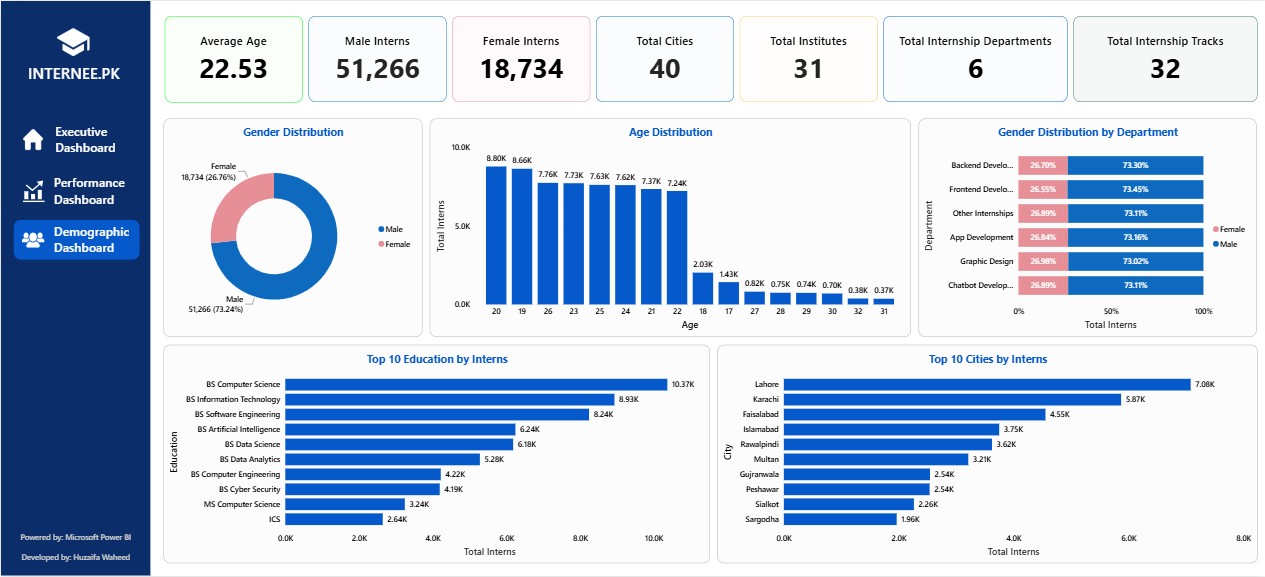

What the dashboard file says about the page in this screenshot:
{"tool":"powerbi","page":{"name":"Demographic Dashboard","canvas":[2200,1000],"ordinal":2},"visuals":[{"type":"shape","box":[0,0,259.8,999.3],"z":0},{"type":"image","box":[32.4,309.7,45.7,40],"z":0,"group":"g1"},{"type":"image","box":[32.1,396.1,45.7,40],"z":0,"group":"g6"},{"type":"image","box":[95.7,41.4,60,60],"z":1000},{"type":"textbox","box":[86.4,295.4,150,70],"z":1000,"group":"g1"},{"type":"textbox","box":[86.4,380.4,150,70],"z":1000,"group":"g6"},{"type":"textbox","box":[36,102,180,50.4],"z":2000},{"type":"group","id":"g1","title":"Group 2","box":[32.4,295.4,204,70],"z":3000,"group":"g4"},{"type":"group","id":"g2","title":"Group 4","box":[21.6,380.4,219.6,69.6],"z":3000},{"type":"group","id":"g3","title":"Group 5","box":[21.6,206.4,220.8,70.8],"z":4000},{"type":"group","id":"g4","title":"Group 6","box":[21.6,295.2,220.8,70.2],"z":5000},{"type":"actionButton","box":[21.6,295.2,220.8,69.6],"z":5000,"group":"g4"},{"type":"group","id":"g5","title":"Group 1","box":[33,206.4,207.1,70],"z":7000,"group":"g3"},{"type":"image","box":[33,222.1,45.7,40],"z":7000,"group":"g5"},{"type":"textbox","box":[90.1,206.4,150,70],"z":8000,"group":"g5"},{"type":"actionButton","box":[21.6,207.6,220.8,69.6],"z":8500,"group":"g3"},{"type":"shape","box":[21.6,380.4,219.6,69.6],"z":8500,"group":"g2"},{"type":"group","id":"g6","title":"Group 3","box":[32.1,380.4,204.3,70],"z":9000,"group":"g2"},{"type":"cardVisual","fields":{"Data":["Avg(internship_program_2025.Age)"]},"box":[284.1,26.4,240,150],"z":13001},{"type":"cardVisual","fields":{"Data":["internship_program_2025.Total Cities"]},"box":[1034.7,26.4,240,149.7],"z":13002},{"type":"cardVisual","fields":{"Data":["internship_program_2025.Male Interns"]},"box":[534.3,26.4,240,149.7],"z":13003},{"type":"cardVisual","fields":{"Data":["internship_program_2025.Female Interns"]},"box":[784.5,26.4,240,149.7],"z":13004},{"type":"cardVisual","title":"hi","fields":{"Data":["internship_program_2025.Total Departments"]},"box":[1535.1,26.4,320,149.7],"z":13005},{"type":"cardVisual","fields":{"Data":["internship_program_2025.Total Institutes"]},"box":[1284.9,26.4,240,149.7],"z":13007},{"type":"cardVisual","fields":{"Data":["internship_program_2025.Total Internship Tracks"]},"box":[1865.3,26.4,320,149.7],"z":13008}]}

Visuals, with their boxes in screenshot pixels (x1, y1, x2, y2), scaled from the page's 2200x1000 canvas onto the 1265x577 screenshot:
shape: {"left": 0, "top": 0, "right": 149, "bottom": 576}
image: {"left": 19, "top": 179, "right": 45, "bottom": 202}
image: {"left": 18, "top": 229, "right": 45, "bottom": 252}
image: {"left": 55, "top": 24, "right": 90, "bottom": 59}
textbox: {"left": 50, "top": 170, "right": 136, "bottom": 211}
textbox: {"left": 50, "top": 219, "right": 136, "bottom": 260}
textbox: {"left": 21, "top": 59, "right": 124, "bottom": 88}
"Group 2" group: {"left": 19, "top": 170, "right": 136, "bottom": 211}
"Group 4" group: {"left": 12, "top": 219, "right": 139, "bottom": 260}
"Group 5" group: {"left": 12, "top": 119, "right": 139, "bottom": 160}
"Group 6" group: {"left": 12, "top": 170, "right": 139, "bottom": 211}
actionButton: {"left": 12, "top": 170, "right": 139, "bottom": 210}
"Group 1" group: {"left": 19, "top": 119, "right": 138, "bottom": 159}
image: {"left": 19, "top": 128, "right": 45, "bottom": 151}
textbox: {"left": 52, "top": 119, "right": 138, "bottom": 159}
actionButton: {"left": 12, "top": 120, "right": 139, "bottom": 160}
shape: {"left": 12, "top": 219, "right": 139, "bottom": 260}
"Group 3" group: {"left": 18, "top": 219, "right": 136, "bottom": 260}
cardVisual - Avg(internship_program_2025.Age): {"left": 163, "top": 15, "right": 301, "bottom": 102}
cardVisual - internship_program_2025.Total Cities: {"left": 595, "top": 15, "right": 733, "bottom": 102}
cardVisual - internship_program_2025.Male Interns: {"left": 307, "top": 15, "right": 445, "bottom": 102}
cardVisual - internship_program_2025.Female Interns: {"left": 451, "top": 15, "right": 589, "bottom": 102}
"hi" cardVisual: {"left": 883, "top": 15, "right": 1067, "bottom": 102}
cardVisual - internship_program_2025.Total Institutes: {"left": 739, "top": 15, "right": 877, "bottom": 102}
cardVisual - internship_program_2025.Total Internship Tracks: {"left": 1073, "top": 15, "right": 1257, "bottom": 102}
